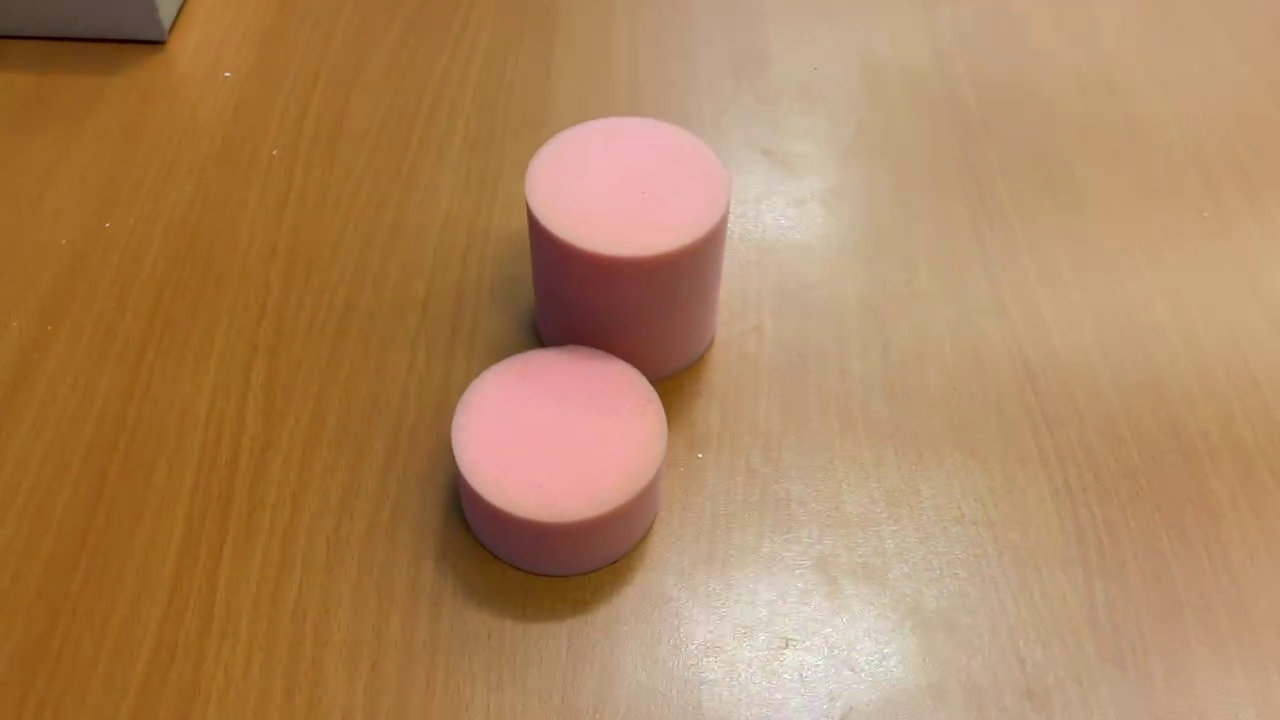Clyinder_short: (444, 335, 677, 583)
Cylinder: (515, 109, 739, 389)
